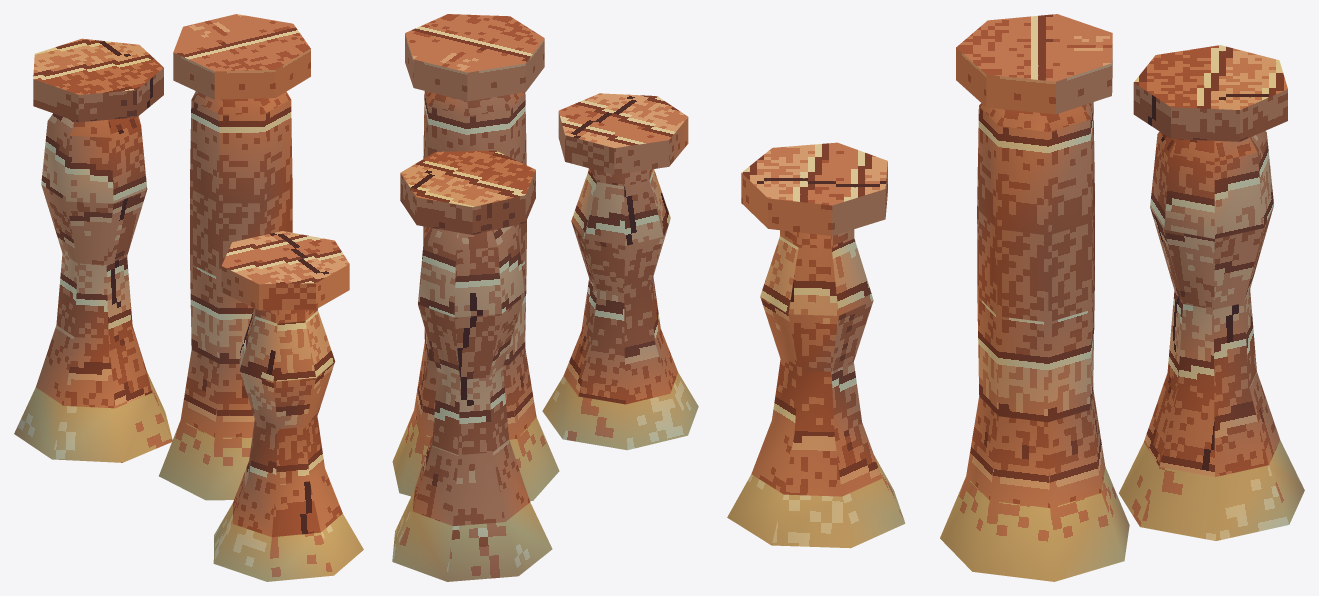
The model's file is wland.hoodoo.glb.
3 renders of one model, left to right at view 1: azimuth 30°, elevation 25°; view 2: azimuth 150°, elevation 25°; view 3: azimuth 270°, elevation 25°, orthographic. The views are drawn at different scales.
Parts seen in each view (by area): view 1: kit_spires, kit_caps; view 2: kit_spires, kit_caps; view 3: kit_spires, kit_caps.
Boxes of the visible parts, x1=… form: kit_spires: x1=14, y1=91, x2=363, y2=581; kit_caps: x1=33, y1=14, x2=349, y2=310; kit_spires: x1=392, y1=91, x2=698, y2=581; kit_caps: x1=400, y1=14, x2=688, y2=234; kit_spires: x1=727, y1=102, x2=1304, y2=581; kit_caps: x1=741, y1=14, x2=1287, y2=235.
Bounding box in the file's own units: 2.42 × 4.71 × 5.01.
Materials: 3 (3 with a texture image).
